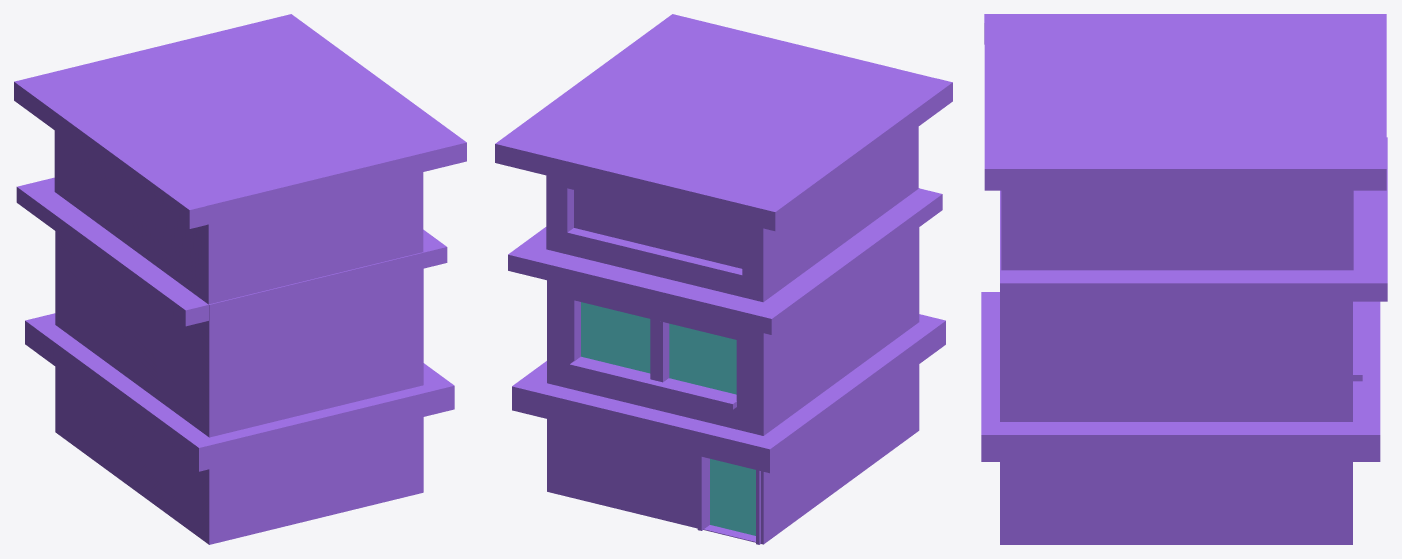
The model's file is wafla6.fbx.
The picture shows the model from 3 angles, left to right: view 1: azimuth 30°, elevation 25°; view 2: azimuth 150°, elevation 25°; view 3: azimuth 270°, elevation 25°; orthographic projection. The views are drawn at different scales.
Visible parts, largest first — view 1: Куб.001; view 2: Куб.001, Куб.004, Куб.002, Куб.005; view 3: Куб.001.
Boxes of the visible parts, box(x1,y1,x2,y2) form: Куб.001: box(14, 14, 466, 544); Куб.001: box(495, 14, 952, 544); Куб.004: box(581, 302, 736, 394); Куб.002: box(574, 190, 742, 268); Куб.005: box(710, 458, 755, 535); Куб.001: box(981, 14, 1387, 544).
Size of the model in its own units: 49.05 by 58.5 by 54.35.
